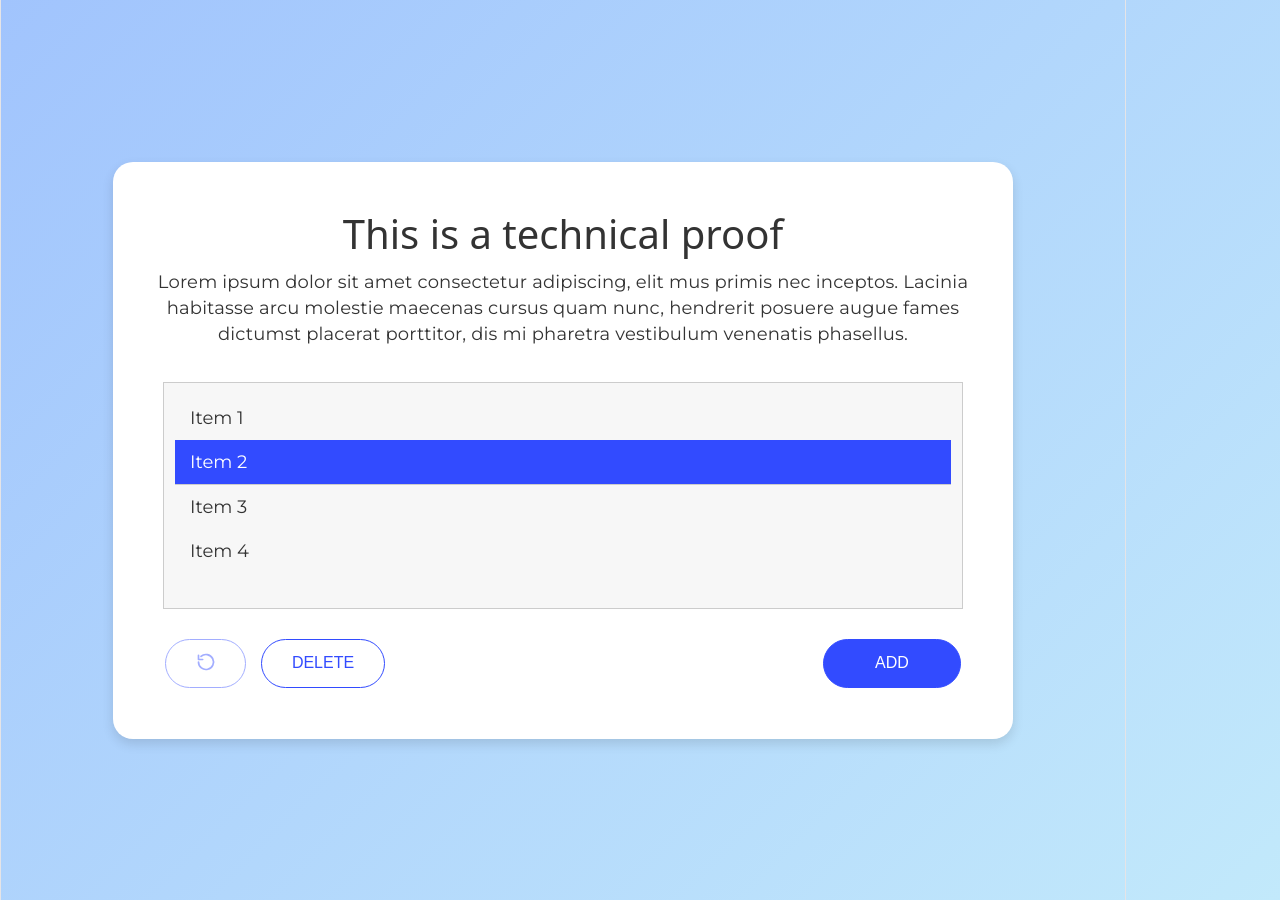
Test: App › adds a new item from the modal
The image size is (1280, 900).
Step 1. Click the button "ADD" → (892, 663), box [823,638,961,688]
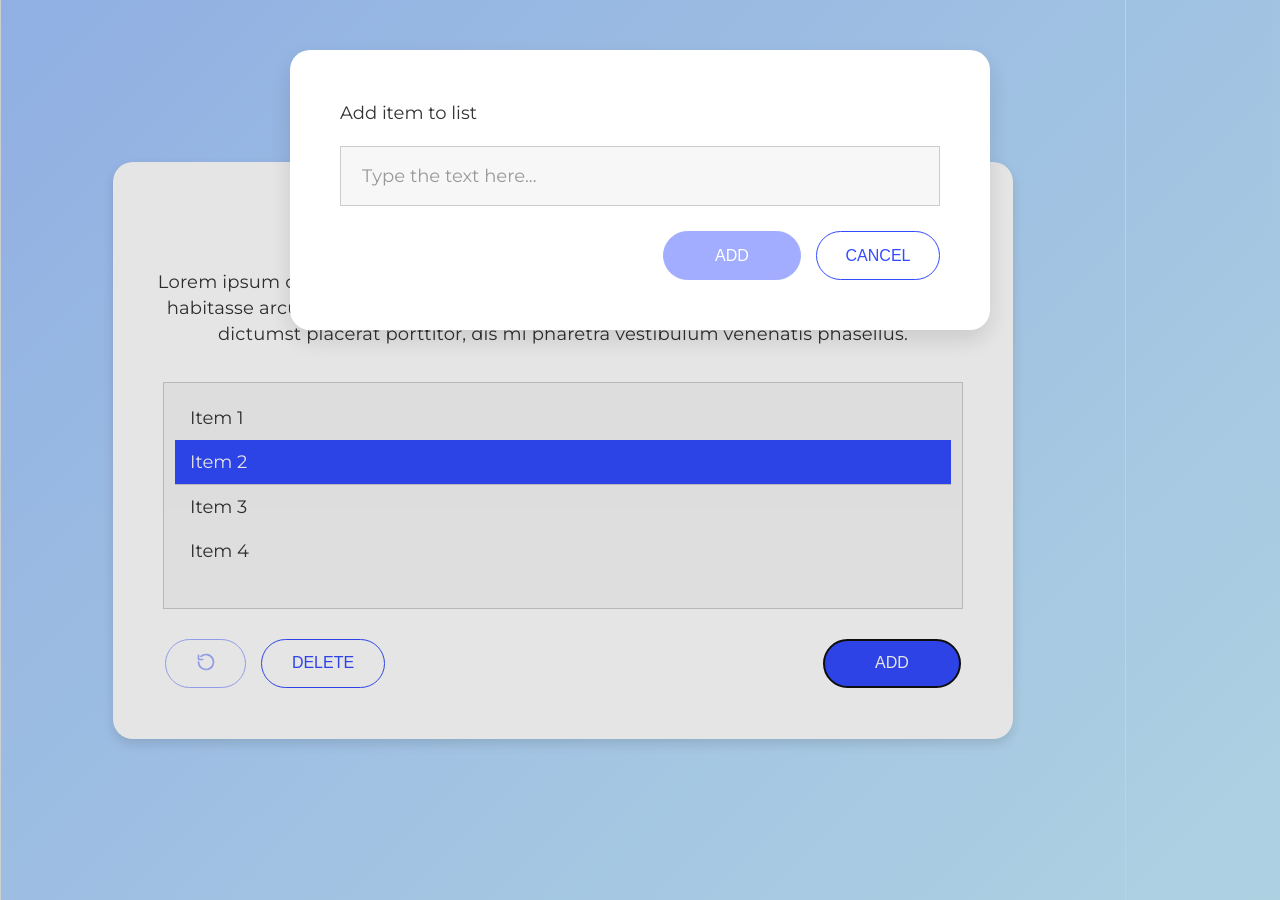
Step 2. Type "New test item" into the field with placeholder "Type the text here..." → (640, 176), box [340,146,940,206]
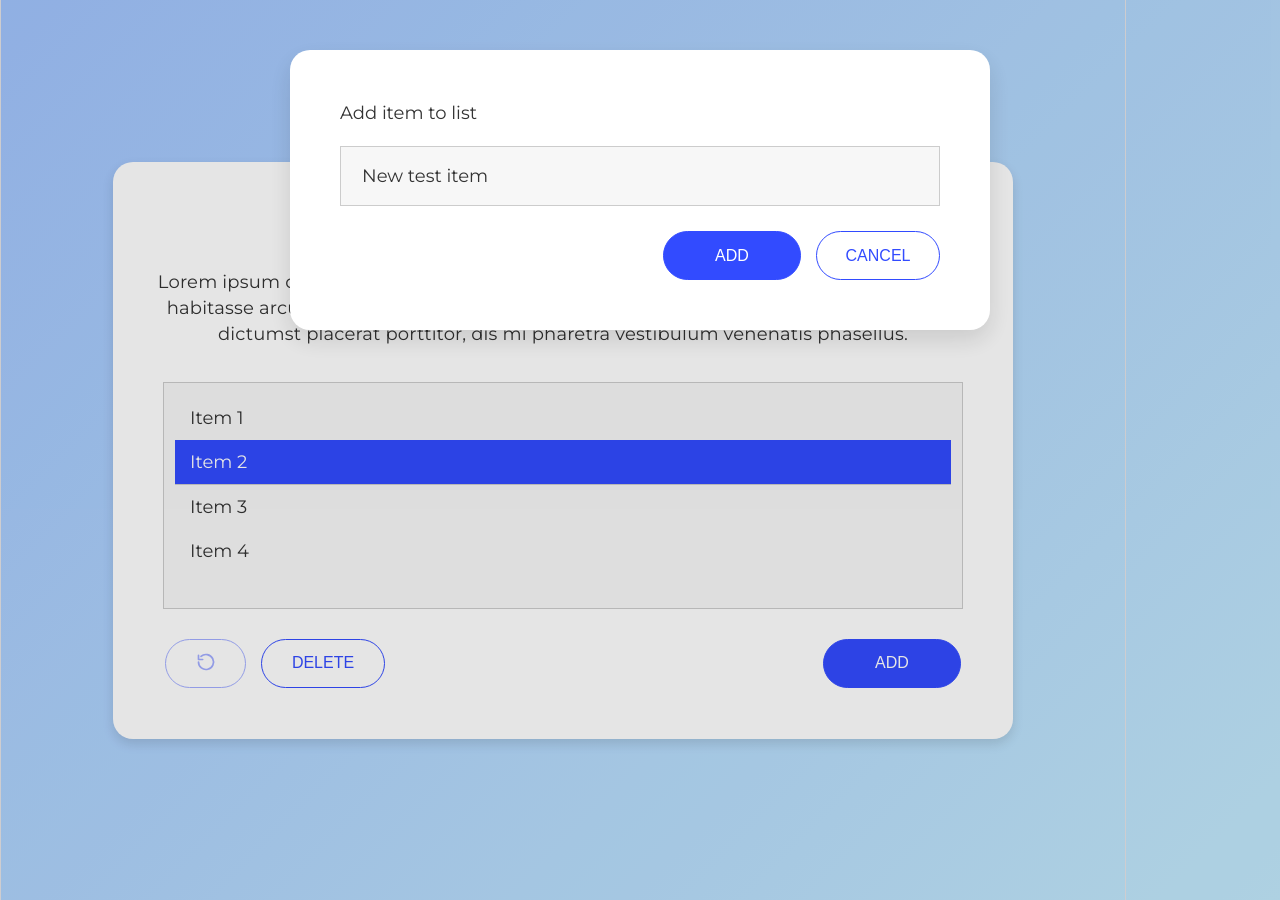
Step 3. Click the button "ADD" → (732, 256), box [663,231,801,280]
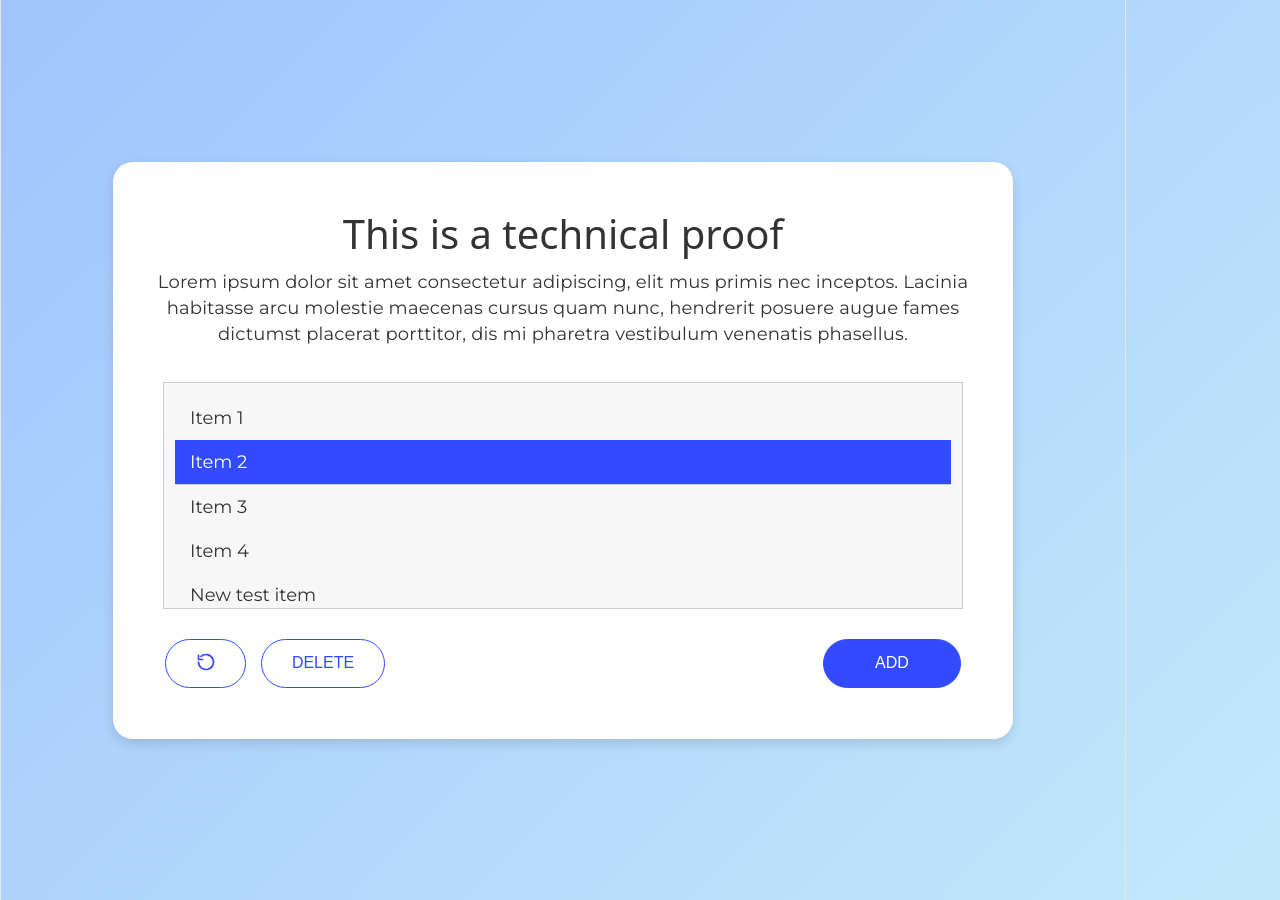
Expected: the text "New test item" is shown, [190,584,316,606]
